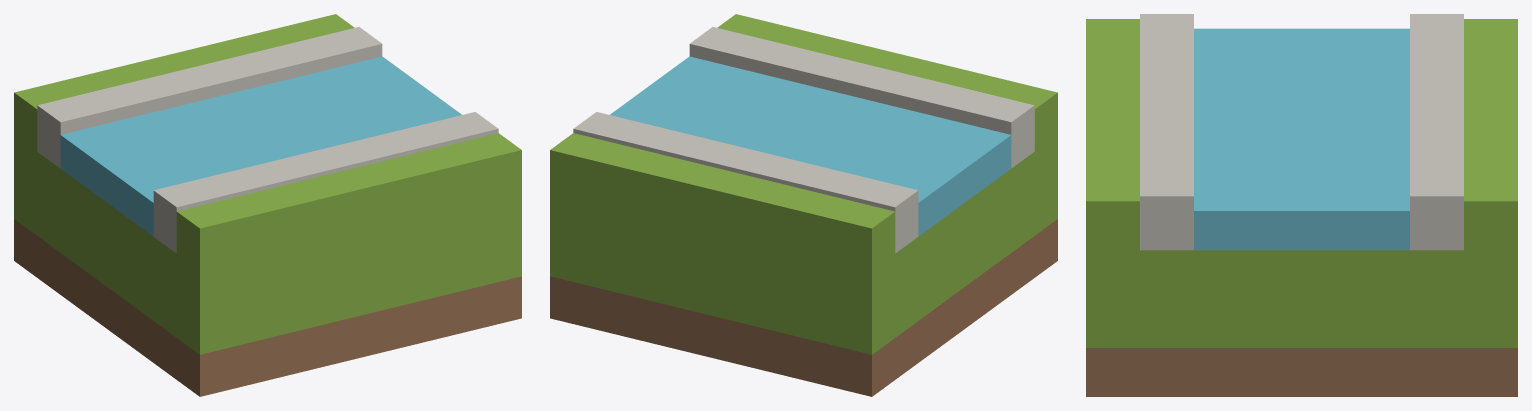
The model's file is canal-straight-high.obj.
3 views of the same model, side by side, from view 1: azimuth 30°, elevation 25°; view 2: azimuth 150°, elevation 25°; view 3: azimuth 270°, elevation 25° (orthographic). The views are drawn at different scales.
Parts seen in each view (by area): view 1: canal-straight-high_Cube.558; view 2: canal-straight-high_Cube.558; view 3: canal-straight-high_Cube.558.
Part boxes in pixels (left/top/right/bottom): canal-straight-high_Cube.558: left=14, top=14, right=521, bottom=396; canal-straight-high_Cube.558: left=550, top=14, right=1057, bottom=396; canal-straight-high_Cube.558: left=1086, top=14, right=1517, bottom=396.
Bounding box in the file's own units: 8 × 4.1 × 8.
1 material, 1 textured.
